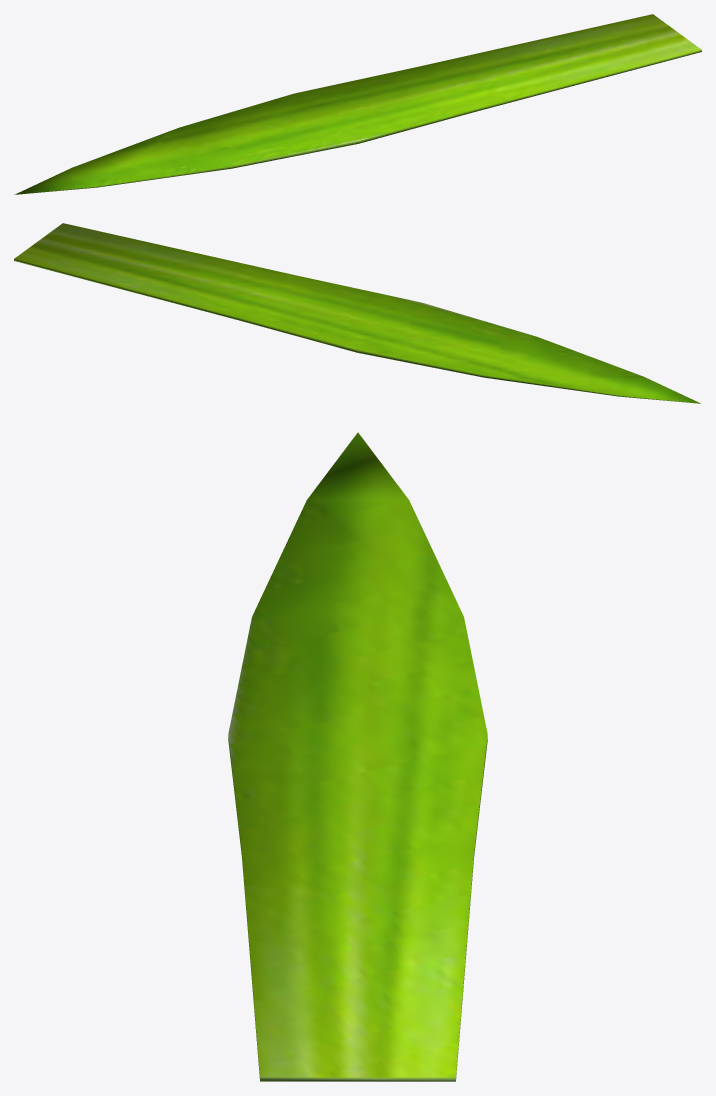
File: pandan.fbx
The picture shows the model from 3 angles, top to bottom: view 1: azimuth 30°, elevation 25°; view 2: azimuth 150°, elevation 25°; view 3: azimuth 270°, elevation 25°; orthographic projection. The views are drawn at different scales.
Visible parts, largest first — view 1: pandan; view 2: pandan; view 3: pandan.
Part boxes in pixels (x1,y1,x2,y2): pandan: [14, 14, 701, 194]; pandan: [14, 223, 701, 403]; pandan: [228, 432, 487, 1081].
Size of the model in its own units: 413 by 1.6 by 70.03.
Materials: 1 (1 with a texture image).
